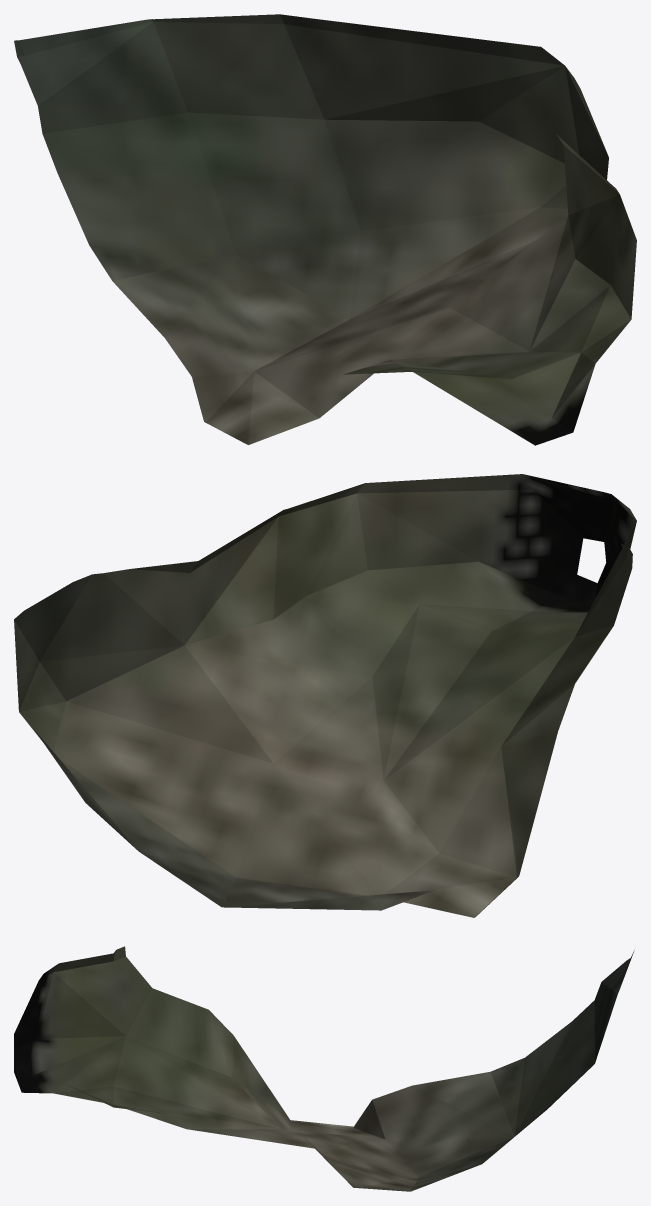
3 views of the same model, one above another, from view 1: azimuth 30°, elevation 25°; view 2: azimuth 150°, elevation 25°; view 3: azimuth 270°, elevation 25° (orthographic). The views are drawn at different scales.
Size of the model in its own units: 0.9019 by 0.505 by 1.57.
1 material, 1 textured.
